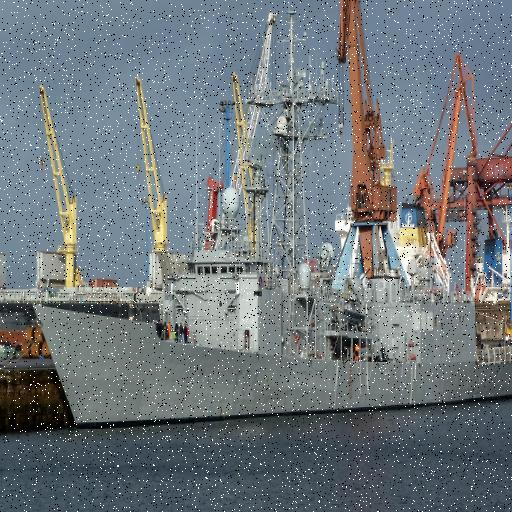Fragata: (28, 93, 512, 438)
